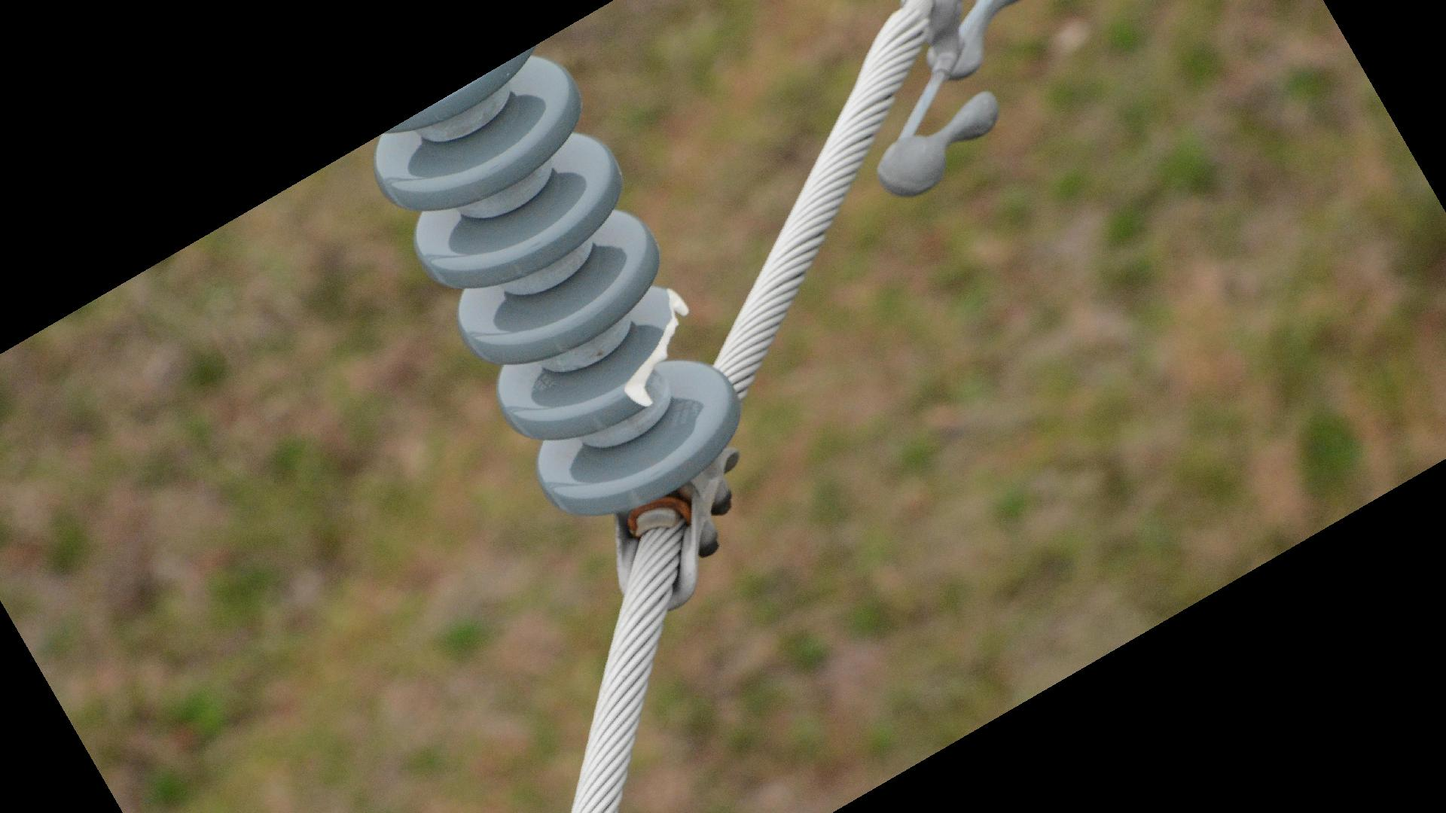insulator: (365, 37, 747, 523)
insulator_breakage: (619, 279, 694, 414)
